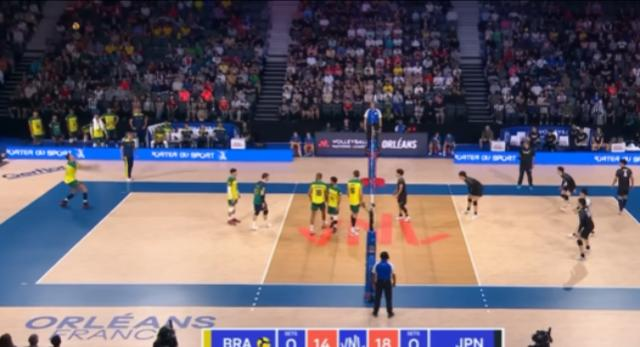Levantador: (322, 172, 346, 232), (392, 163, 412, 222)
Libero: (242, 164, 282, 230), (579, 183, 599, 221)
bola: (66, 18, 86, 32)
